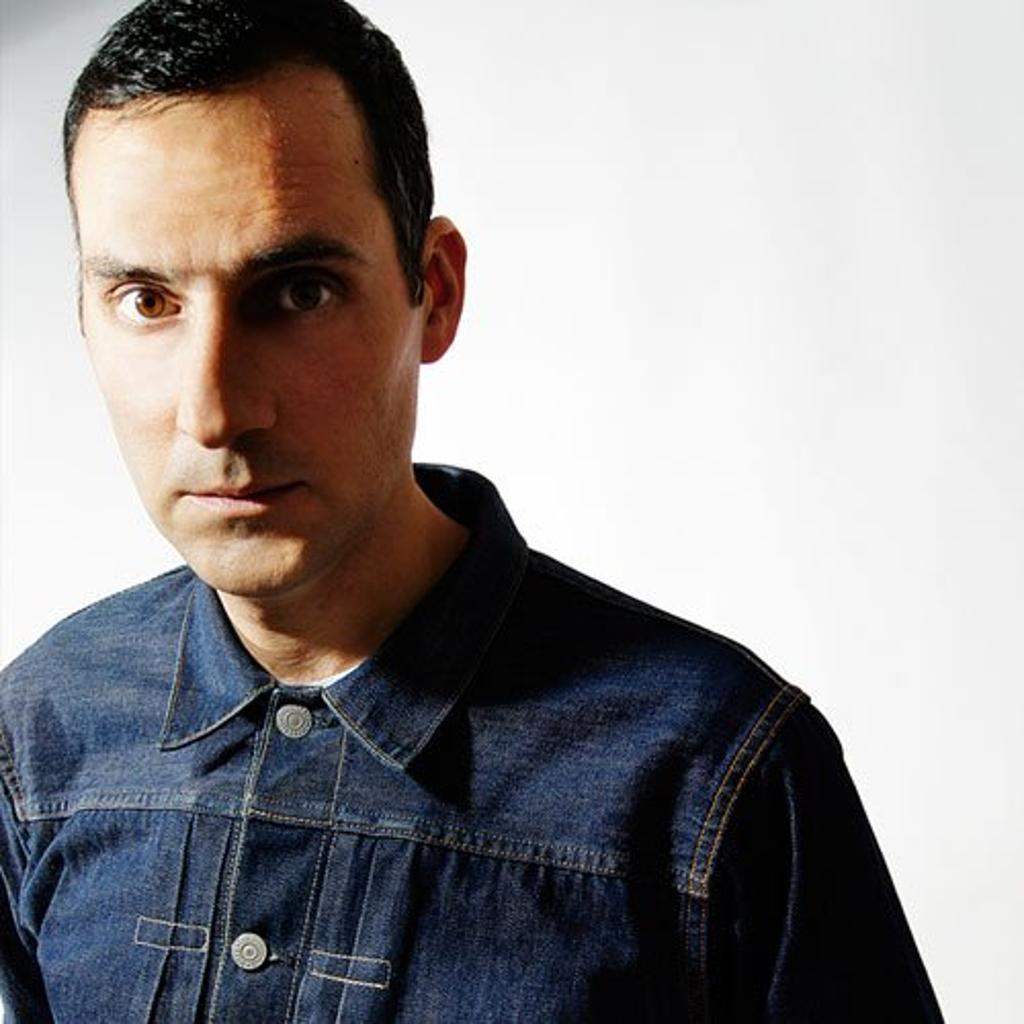face: (88, 90, 404, 590)
